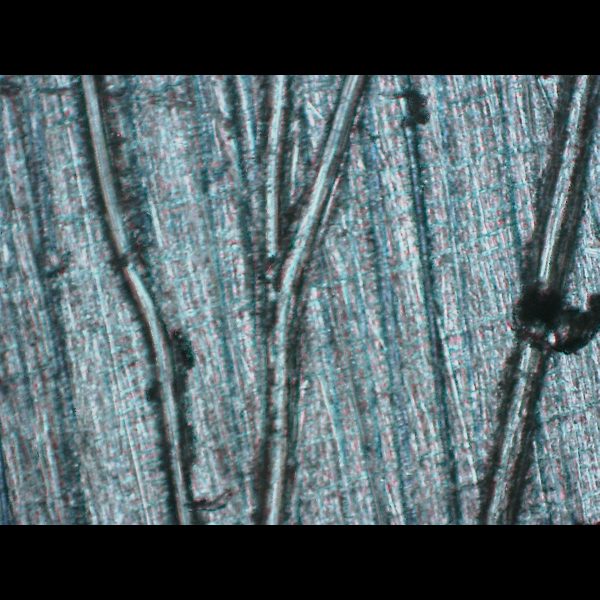d: (224, 76, 377, 525), (67, 76, 209, 525), (474, 75, 600, 522)
